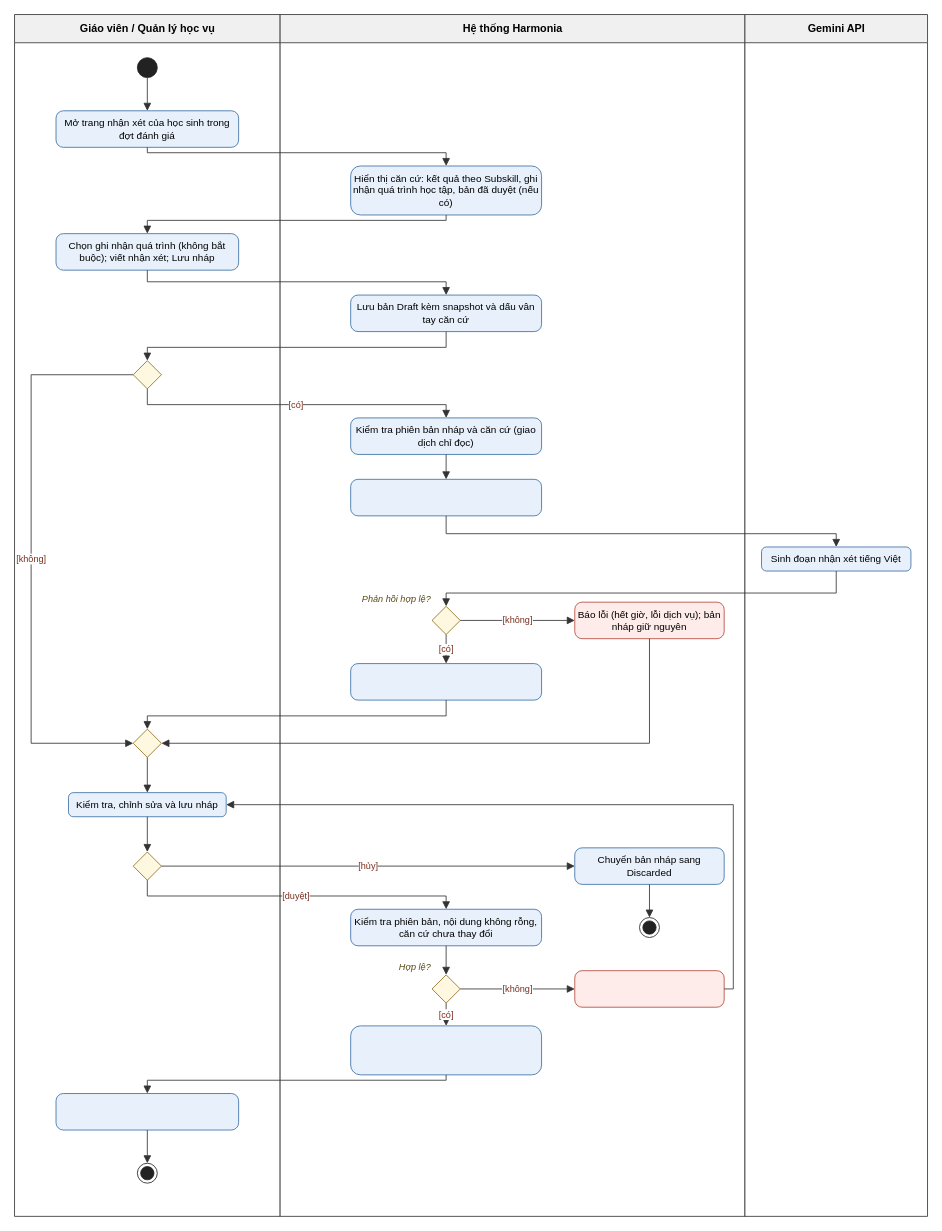
Image size: 942x1231. Some labels were removed from this diagram. Each missing label, with the box of its shape:
Báo xung đột; yêu cầu tải lại / lưu lại nháp: (574, 970, 724, 1007)
Bản đã duyệt cũ → Superseded; bản nháp → Approved (ghi người, thời điểm duyệt): (350, 1025, 542, 1075)
Duyệt hay hủy?: (132, 851, 161, 880)
Dùng gợi ý AI?: (132, 360, 161, 389)
Ghi gợi ý vào bản nháp (Source = Gemini, lưu model, phiên bản prompt): (350, 663, 542, 700)
Gửi dữ liệu đã ẩn danh: điểm, số câu đúng theo Subskill, tiêu chí quan sát: (350, 478, 542, 516)
Mở báo cáo học sinh (S10) để in hoặc lưu PDF: (55, 1093, 239, 1130)
